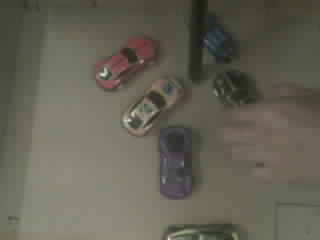Car: (121, 77, 185, 135), (96, 36, 154, 88), (160, 126, 192, 198), (214, 70, 254, 105), (204, 21, 235, 62), (167, 224, 238, 239)
